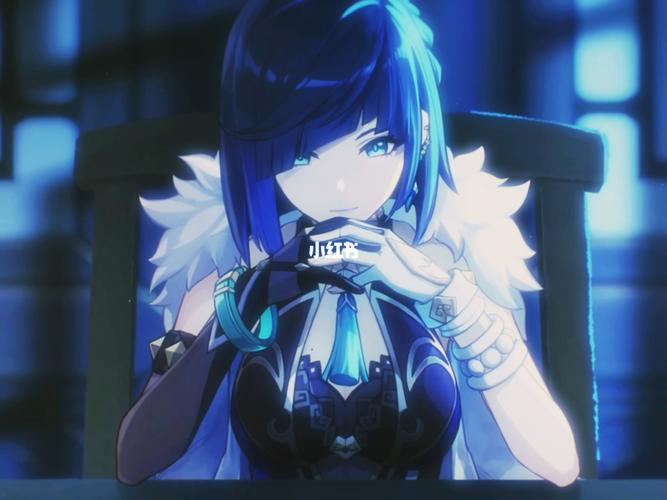夜兰: (110, 2, 586, 491)
